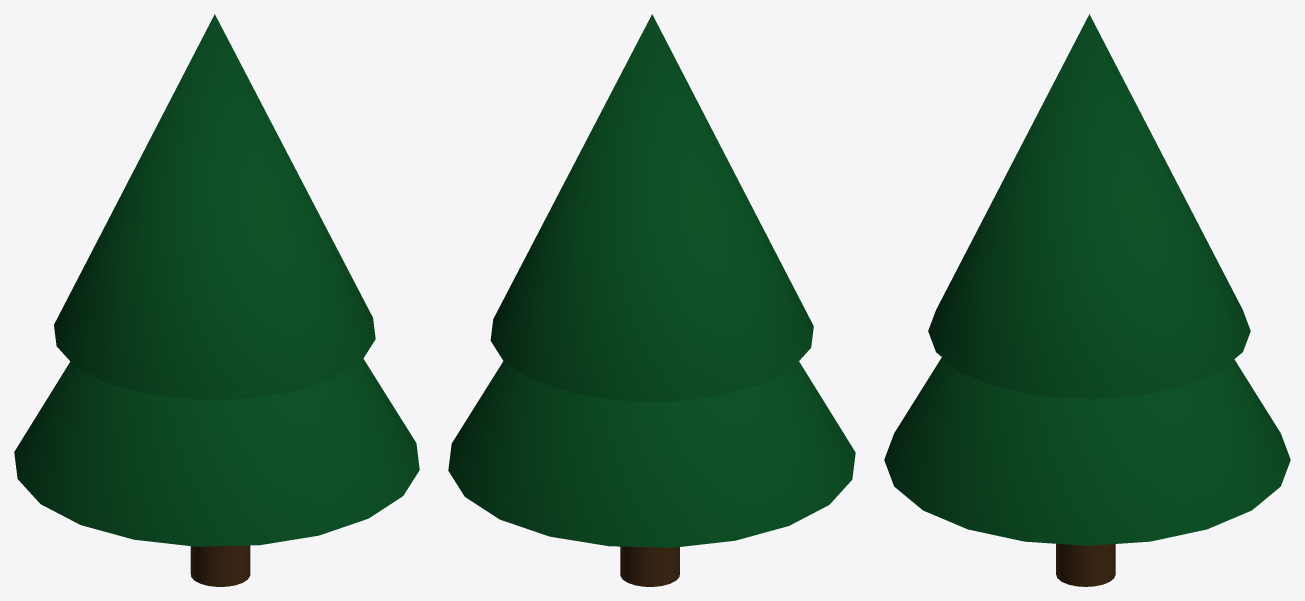
File: EvergreenTree 1.fbx
3 renders of one model, left to right at view 1: azimuth 30°, elevation 25°; view 2: azimuth 150°, elevation 25°; view 3: azimuth 270°, elevation 25°, orthographic.
Parts seen in each view (by area): view 1: polySurface348, polySurface347, pCylinder14; view 2: polySurface348, polySurface347, pCylinder14; view 3: polySurface348, polySurface347, pCylinder14.
Part boxes in pixels (x1=…): polySurface348: x1=54, y1=14, x2=375, y2=399; polySurface347: x1=14, y1=359, x2=419, y2=546; pCylinder14: x1=190, y1=545, x2=250, y2=586; polySurface348: x1=490, y1=14, x2=813, y2=401; polySurface347: x1=448, y1=361, x2=855, y2=547; pCylinder14: x1=620, y1=546, x2=679, y2=586; polySurface348: x1=928, y1=14, x2=1250, y2=399; polySurface347: x1=884, y1=357, x2=1290, y2=545; pCylinder14: x1=1056, y1=543, x2=1115, y2=586.
Bounding box in the file's own units: 1.03 × 1.56 × 1.03.
